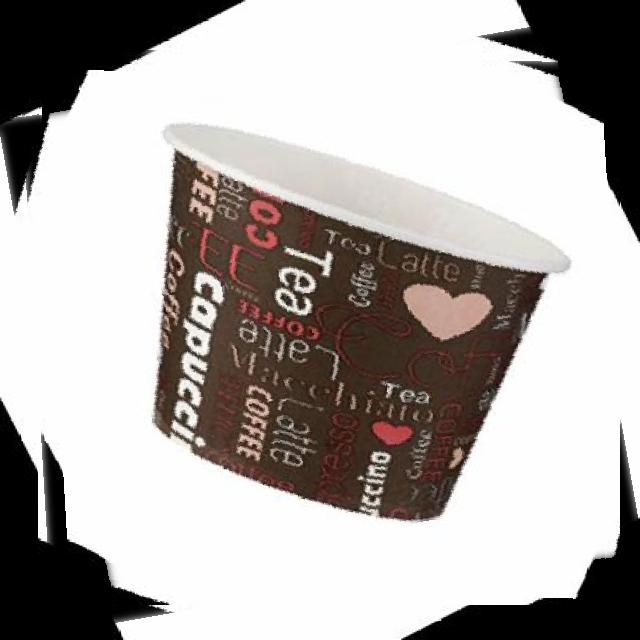non-biodegradable: (18, 46, 620, 605)
